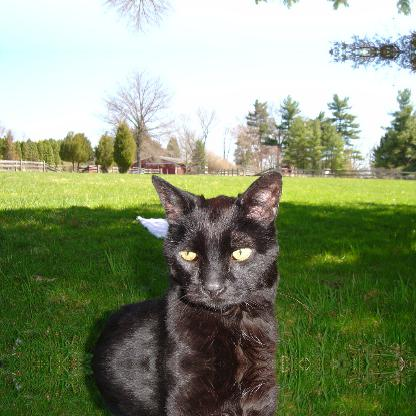Cat: (90, 169, 314, 362), (90, 365, 314, 415)
